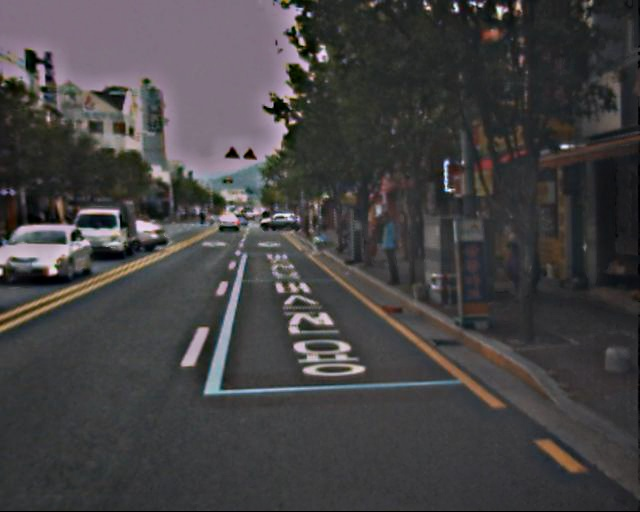person: (373, 215, 402, 286), (501, 230, 528, 297), (409, 212, 430, 262), (339, 217, 352, 248)
